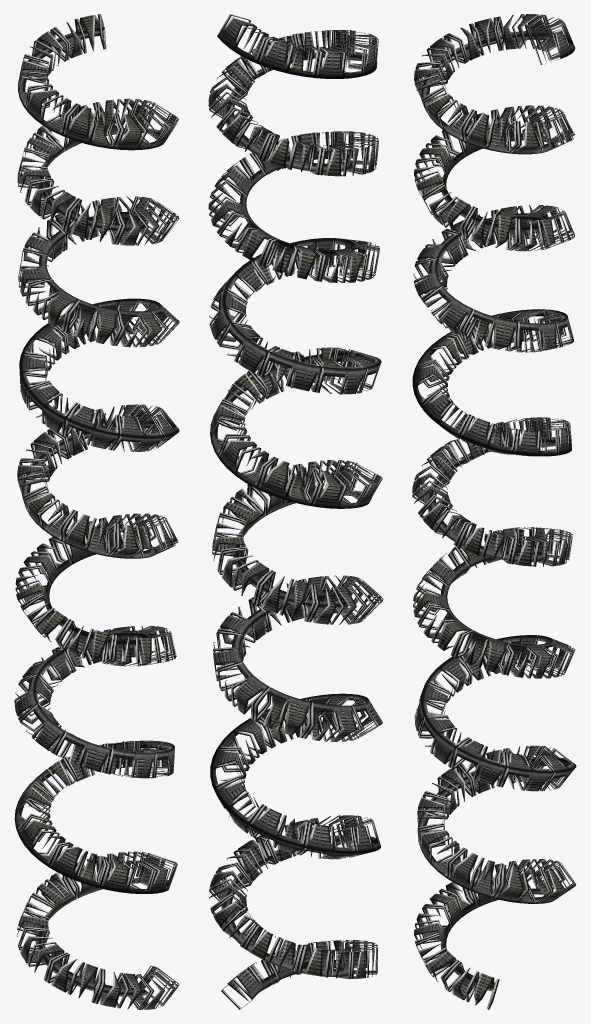
The model's file is Spike.FBX.
3 renders of one model, left to right at view 1: azimuth 30°, elevation 25°; view 2: azimuth 150°, elevation 25°; view 3: azimuth 270°, elevation 25°, orthographic. The views are drawn at different scales.
Visible parts, largest first — view 1: Helix01; view 2: Helix01; view 3: Helix01.
Boxes of the visible parts, x1,y1,x2,y2 form: Helix01: [14, 14, 179, 1009]; Helix01: [208, 14, 383, 1009]; Helix01: [412, 14, 576, 1009].
Size of the model in its own units: 51.07 by 330 by 51.
Materials: 1 (1 with a texture image).
